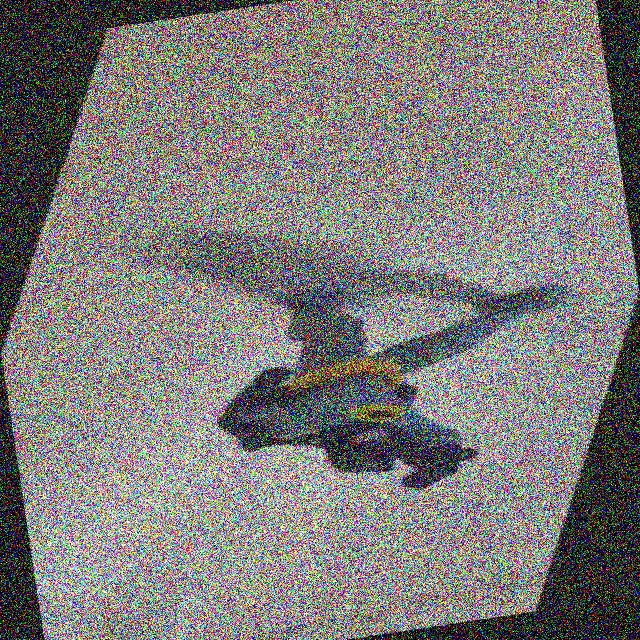Batman: (75, 189, 629, 559)
